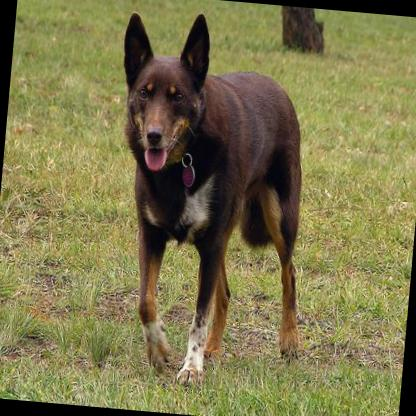kelpie: (92, 3, 328, 396)
